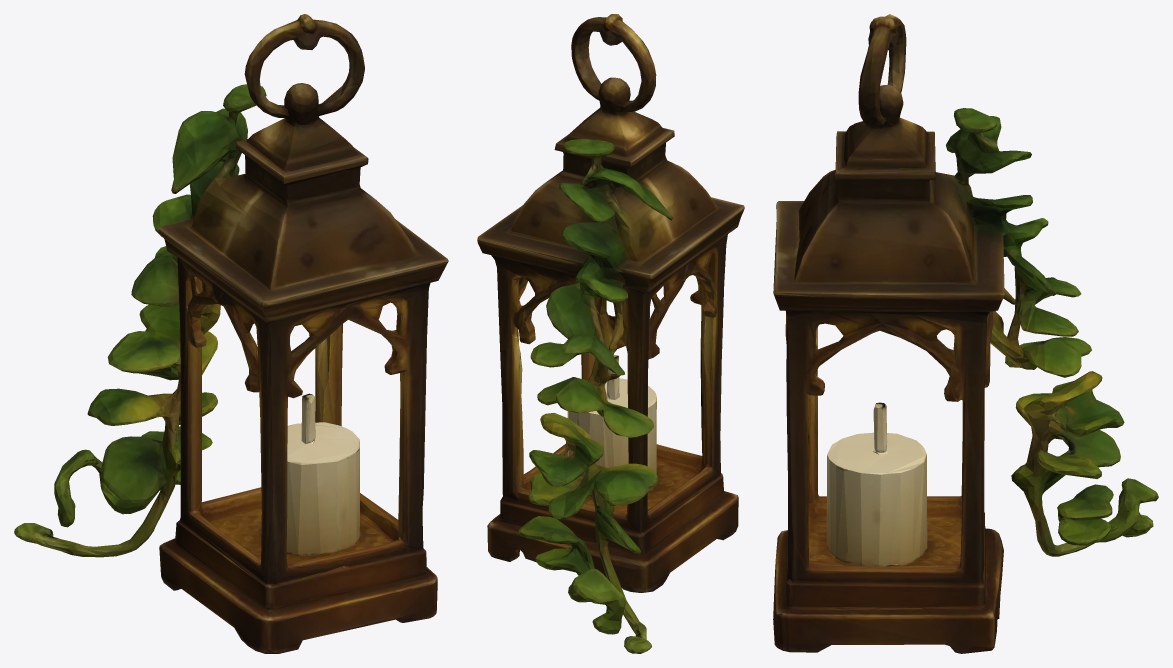
3 views of the same model, side by side, from view 1: azimuth 30°, elevation 25°; view 2: azimuth 150°, elevation 25°; view 3: azimuth 270°, elevation 25° (orthographic). The views are drawn at different scales.
Visible parts, largest first — view 1: world; view 2: world; view 3: world.
Boxes of the visible parts, x1=… form: world: x1=14, y1=14, x2=448, y2=653; world: x1=477, y1=14, x2=744, y2=653; world: x1=773, y1=14, x2=1158, y2=653.
Size of the model in its own units: 0.4647 by 0.9996 by 0.5894.
1 material, 1 textured.
